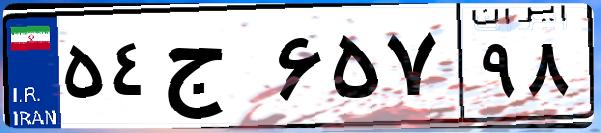4: (110, 28, 158, 98)
5: (330, 28, 385, 110), (57, 26, 110, 100)
6: (270, 28, 330, 110)
7: (385, 28, 445, 110)
8: (525, 38, 570, 115)
9: (475, 38, 525, 113)
ج: (158, 20, 270, 120)
